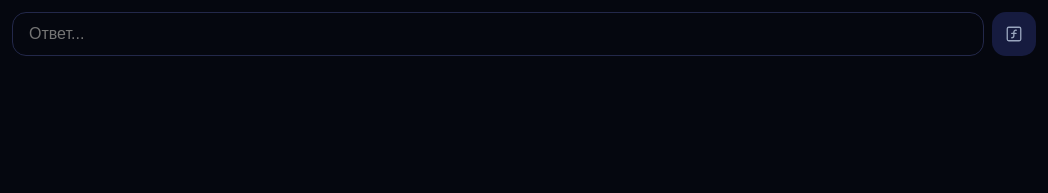
Test: MathAnswerField › opens the math panel and inserts π at the end of an empty field
The width and height of the screenshot is (1048, 193).
Step 1. Click the button named "Математические символы" → click(1014, 34), box top-left (992, 12), bottom-right (1036, 56)
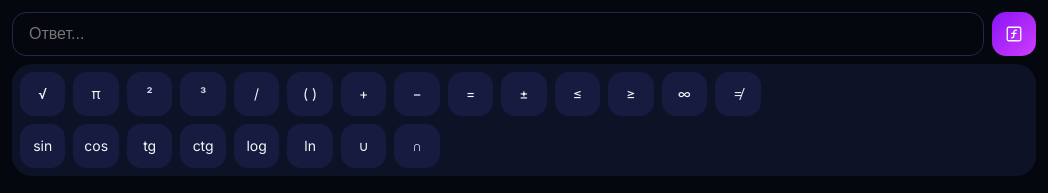
Step 2. Click the button "π" → click(96, 94), box top-left (74, 72), bottom-right (119, 116)
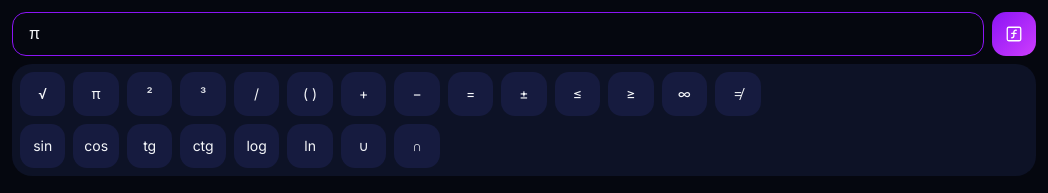
Expected: the field named "Ответ" holds "π", top-left (12, 12), bottom-right (984, 56)
